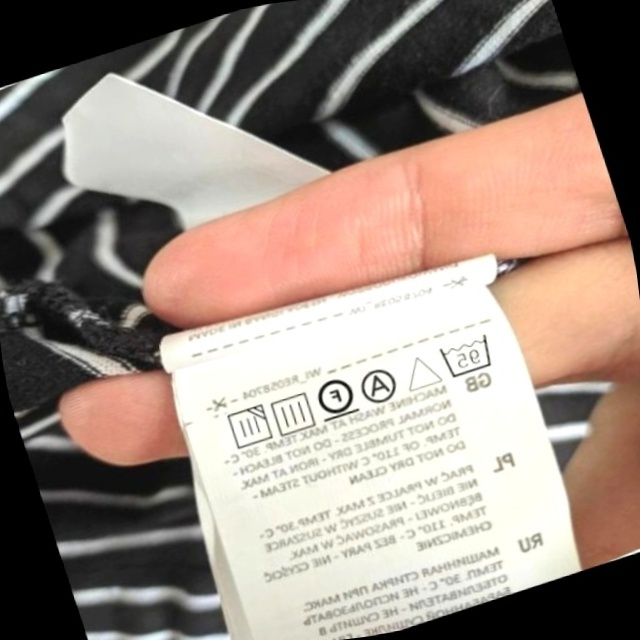95C: (433, 329, 500, 383)
bleach: (398, 346, 444, 396)
drip_dry: (265, 386, 320, 440)
drip_dry_in_shade: (219, 400, 276, 456)
dry_clean: (355, 362, 404, 409)
dry_clean_petrol_only: (310, 369, 361, 425)
